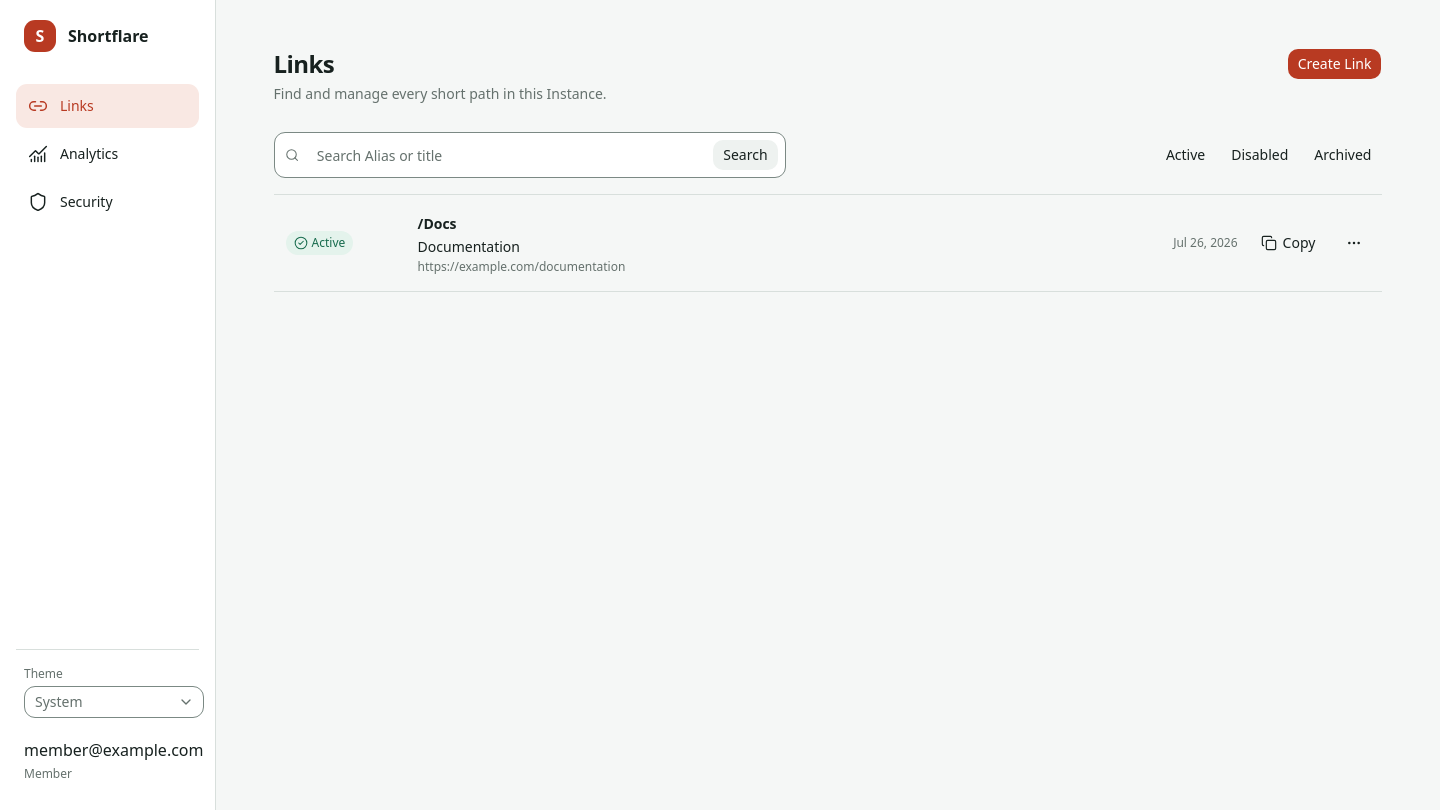
Test case: Management App › lets a Member search and filter the Link collection, then copy a short URL
Expected: the text "Documentation" is shown, top-left (418, 237), bottom-right (520, 256)
In the search field named "Search Links": (506, 155) top-left (307, 139), bottom-right (704, 171), type "launch"
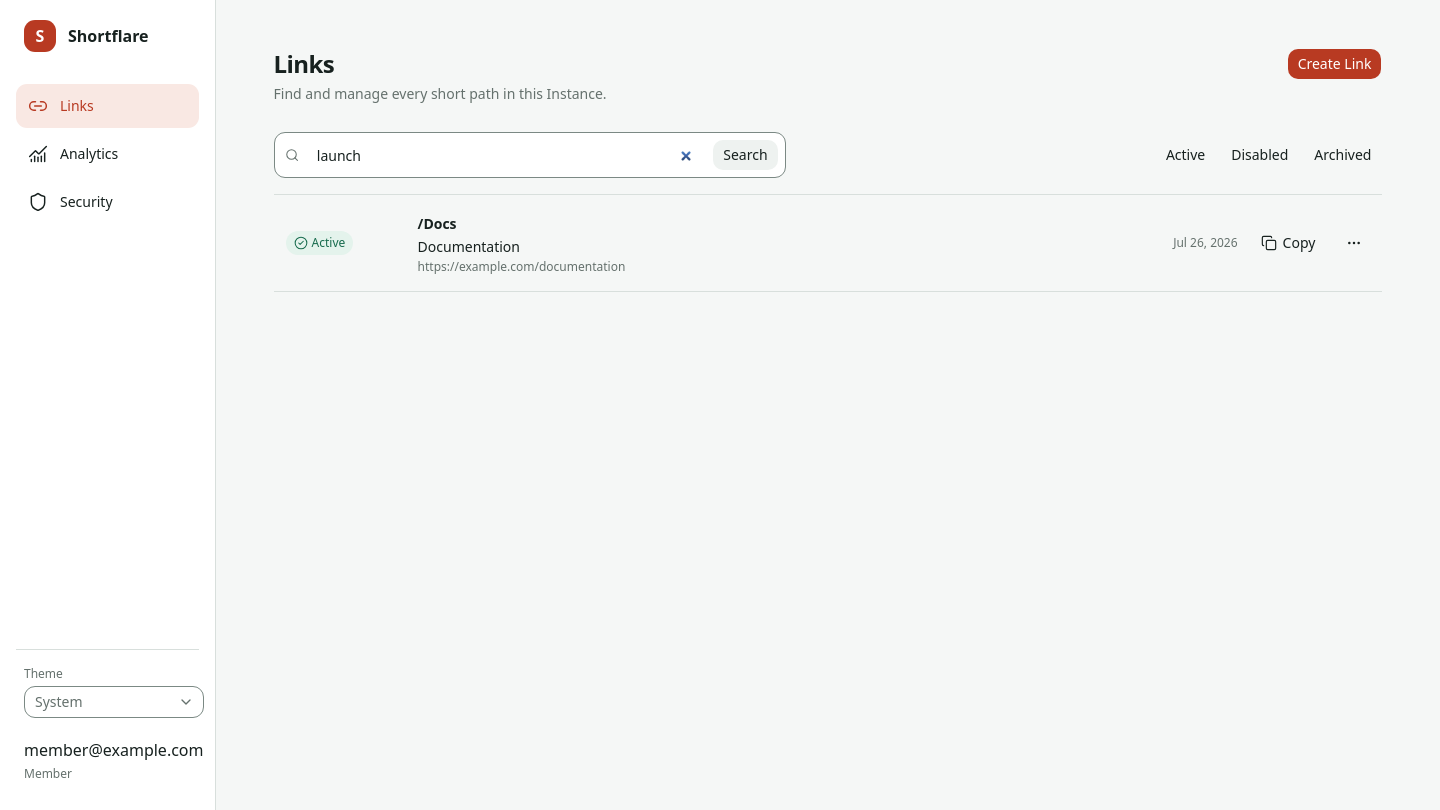
Click the button "Archived": click(1343, 155) top-left (1303, 139), bottom-right (1382, 171)
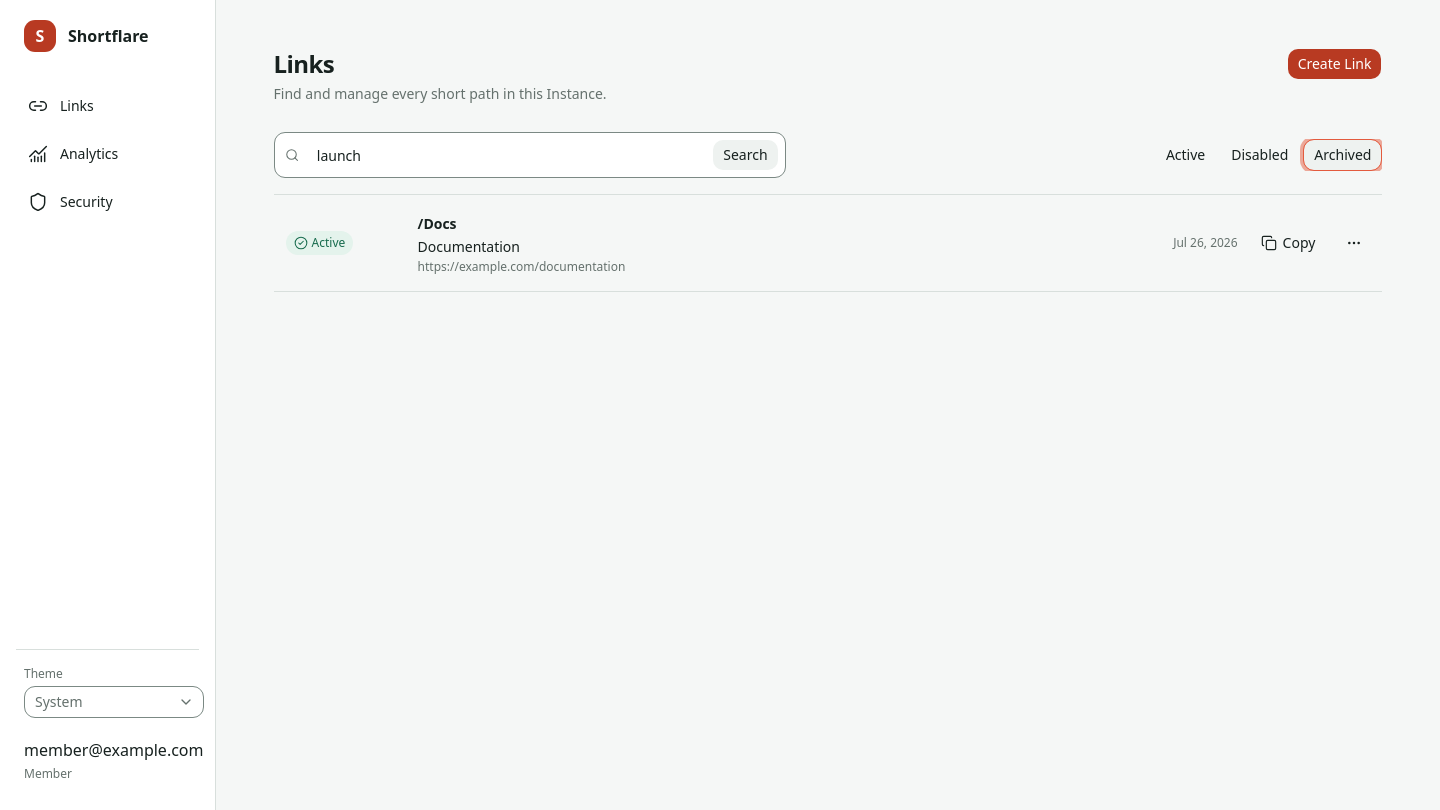
Click the button "Search": click(745, 155) top-left (712, 139), bottom-right (779, 171)
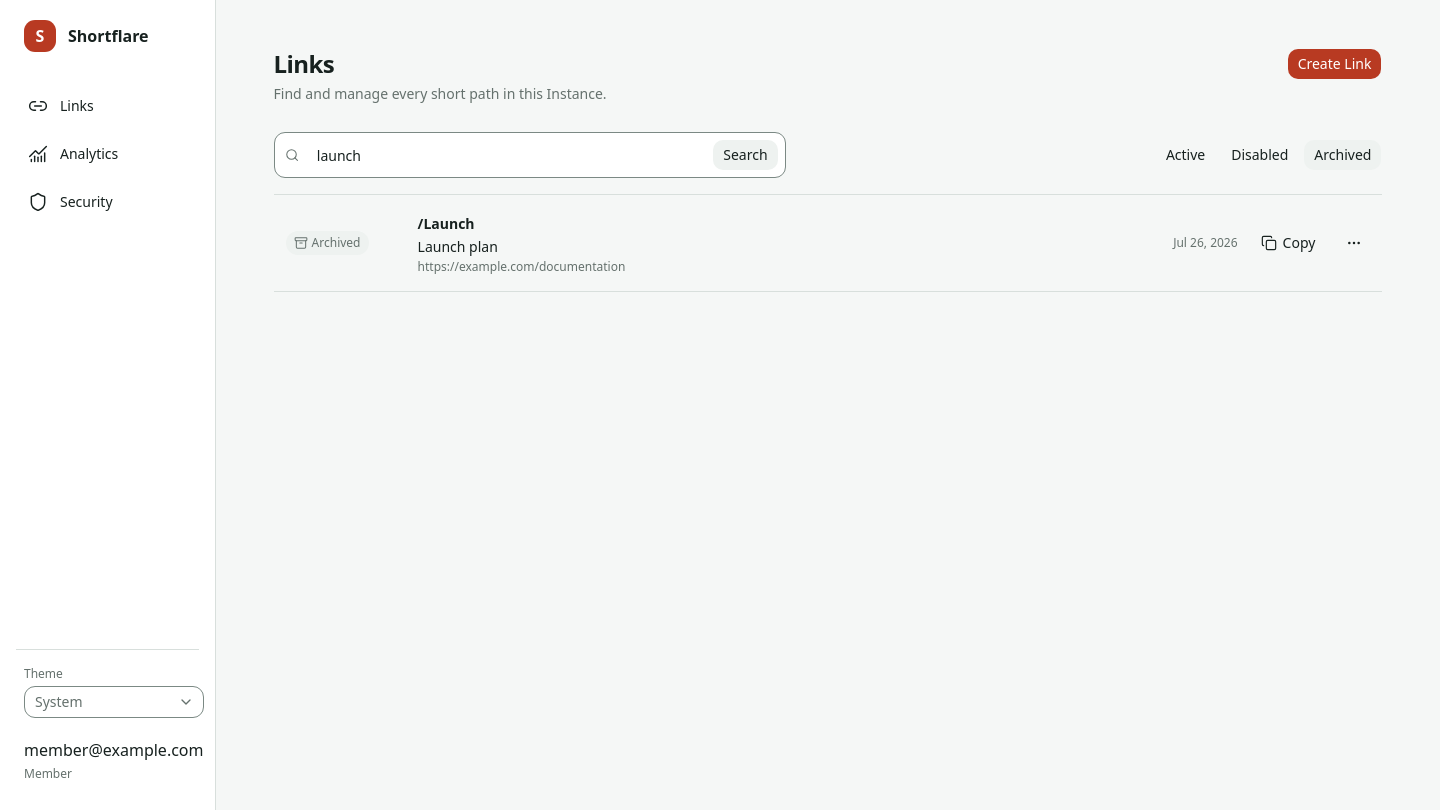
Now the text "Launch plan" is shown, box top-left (418, 237), bottom-right (498, 256)
Click the button with aria-label "Copy short URL for Launch plan": click(1288, 243) top-left (1250, 227), bottom-right (1326, 259)
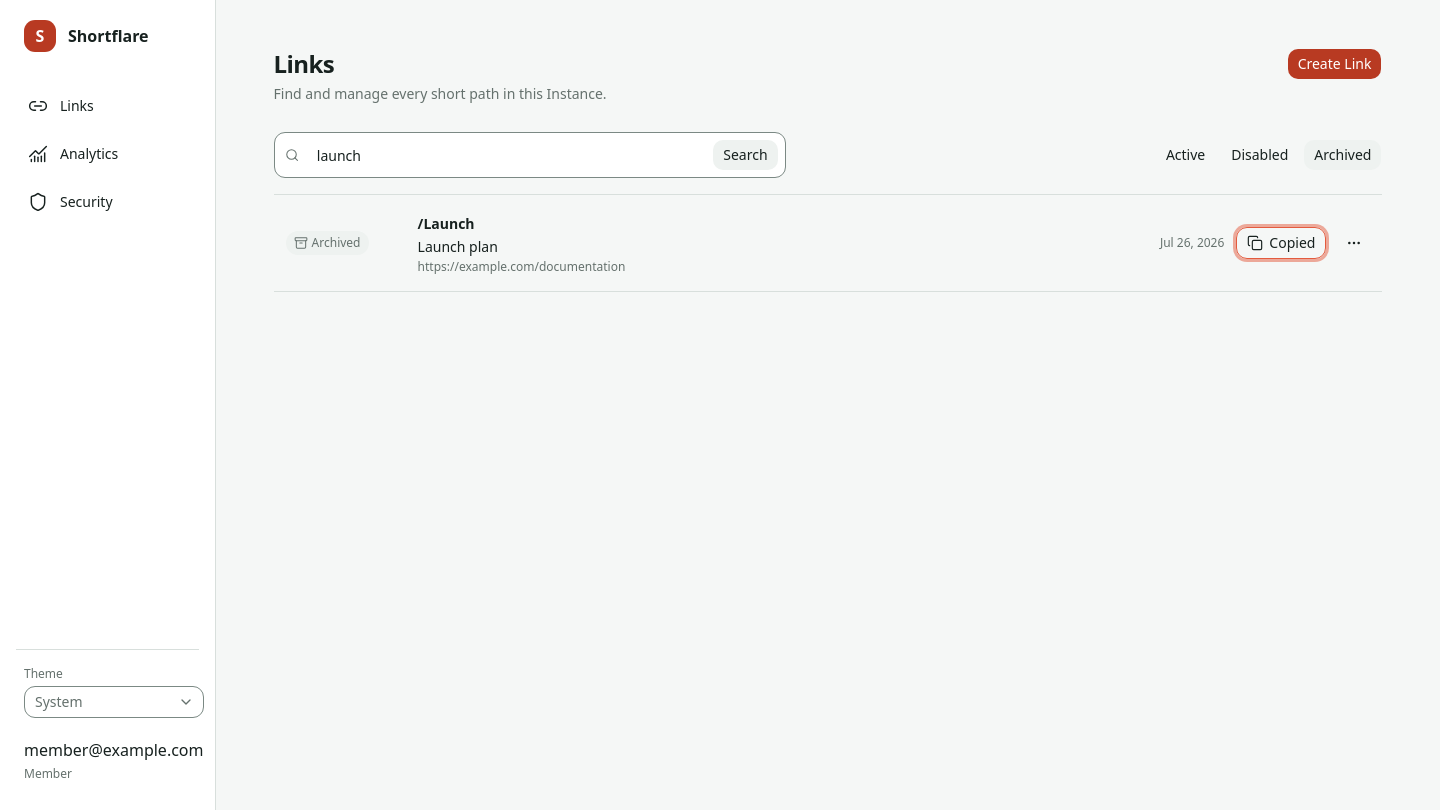
Now the button with aria-label "Copied short URL for Launch plan" is shown, box top-left (1236, 227), bottom-right (1326, 259)
